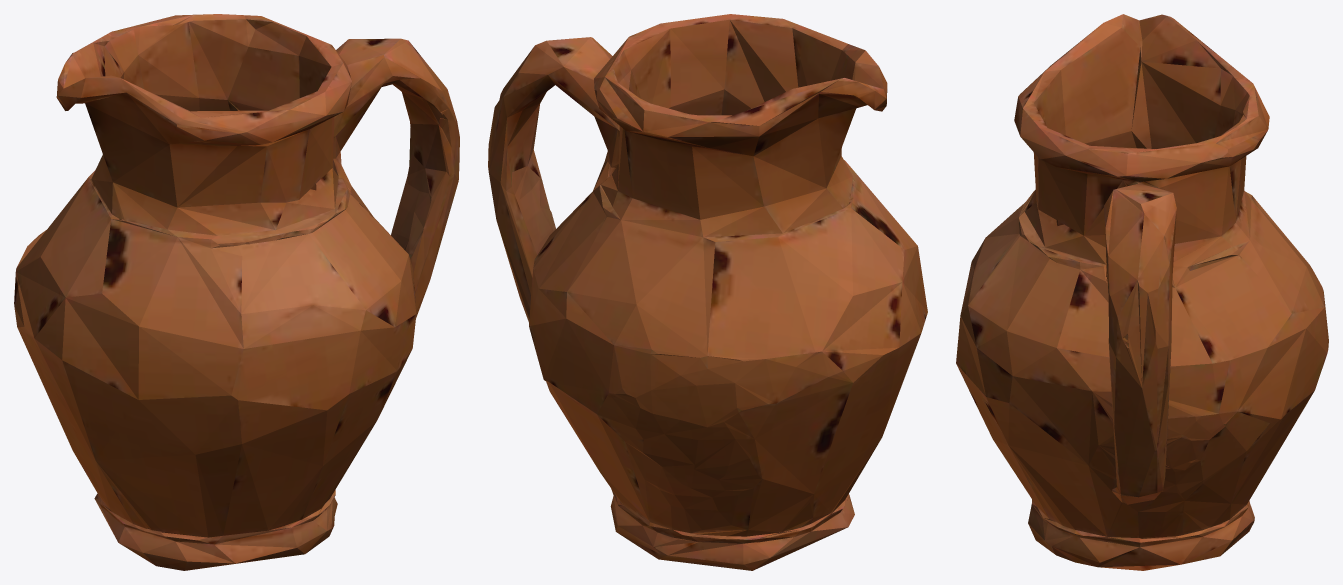
The model's file is prop_pottery_01.glb.
3 views of the same model, side by side, from view 1: azimuth 30°, elevation 25°; view 2: azimuth 150°, elevation 25°; view 3: azimuth 270°, elevation 25° (orthographic). The views are drawn at different scales.
Parts seen in each view (by area): view 1: geometry_0; view 2: geometry_0; view 3: geometry_0.
Part boxes in pixels (x1,y1,x2,y2): geometry_0: [14, 14, 459, 570]; geometry_0: [488, 14, 927, 570]; geometry_0: [956, 14, 1328, 570].
Size of the model in its own units: 0.8756 by 0.9935 by 0.7422.
Materials: 1 (1 with a texture image).
